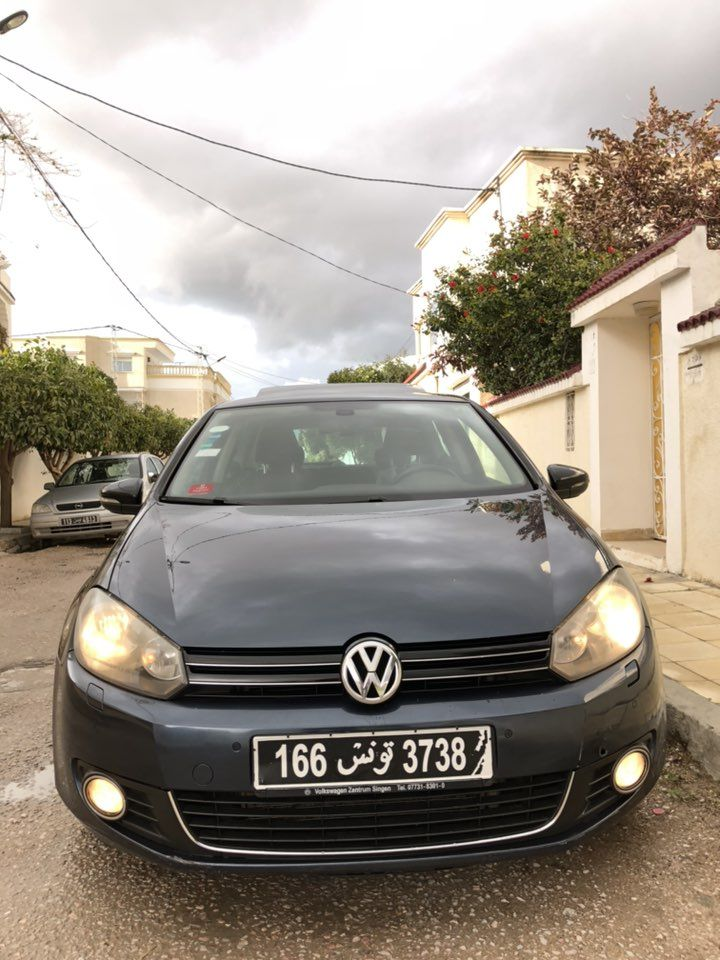LP: (250, 723, 495, 789)
